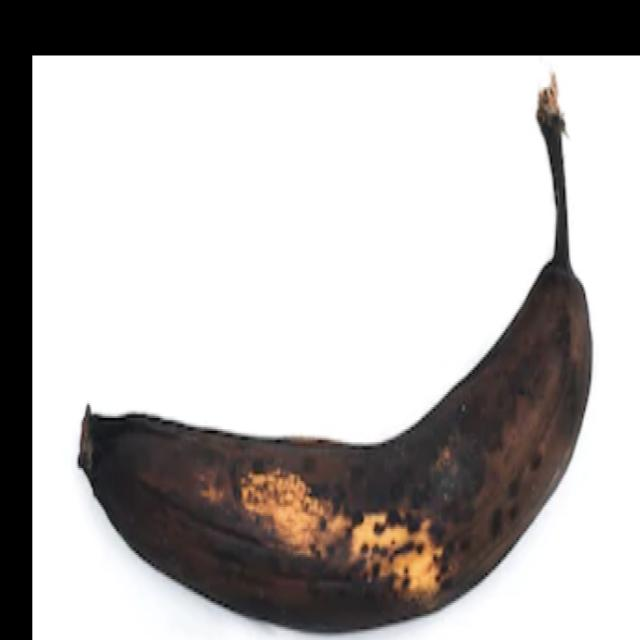Rotten: (41, 69, 618, 640)
